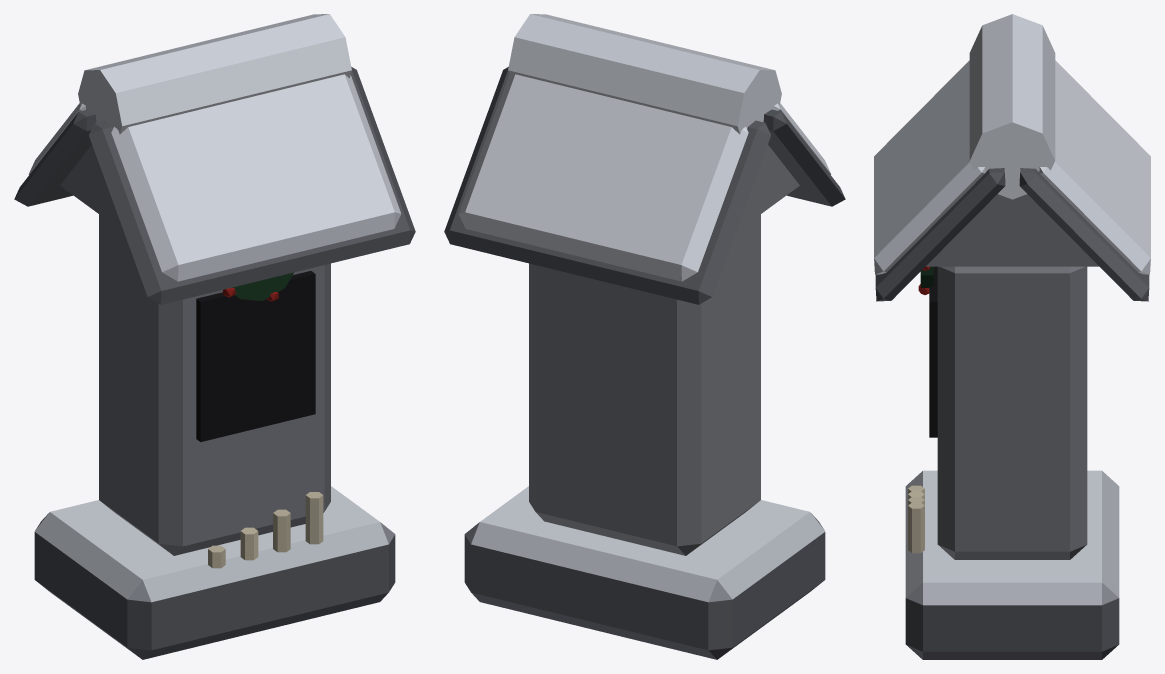
File: village_shrine.glb
3 views of the same model, side by side, from view 1: azimuth 30°, elevation 25°; view 2: azimuth 150°, elevation 25°; view 3: azimuth 270°, elevation 25° (orthographic). The views are drawn at different scales.
Parts seen in each view (by area): view 1: village_shrine; view 2: village_shrine; view 3: village_shrine.
Part boxes in pixels (box(x1,y1,x2,y2)): village_shrine: box(14, 14, 415, 659); village_shrine: box(444, 14, 845, 659); village_shrine: box(874, 14, 1150, 659).
Size of the model in its own units: 1.4 by 2.77 by 1.3.
